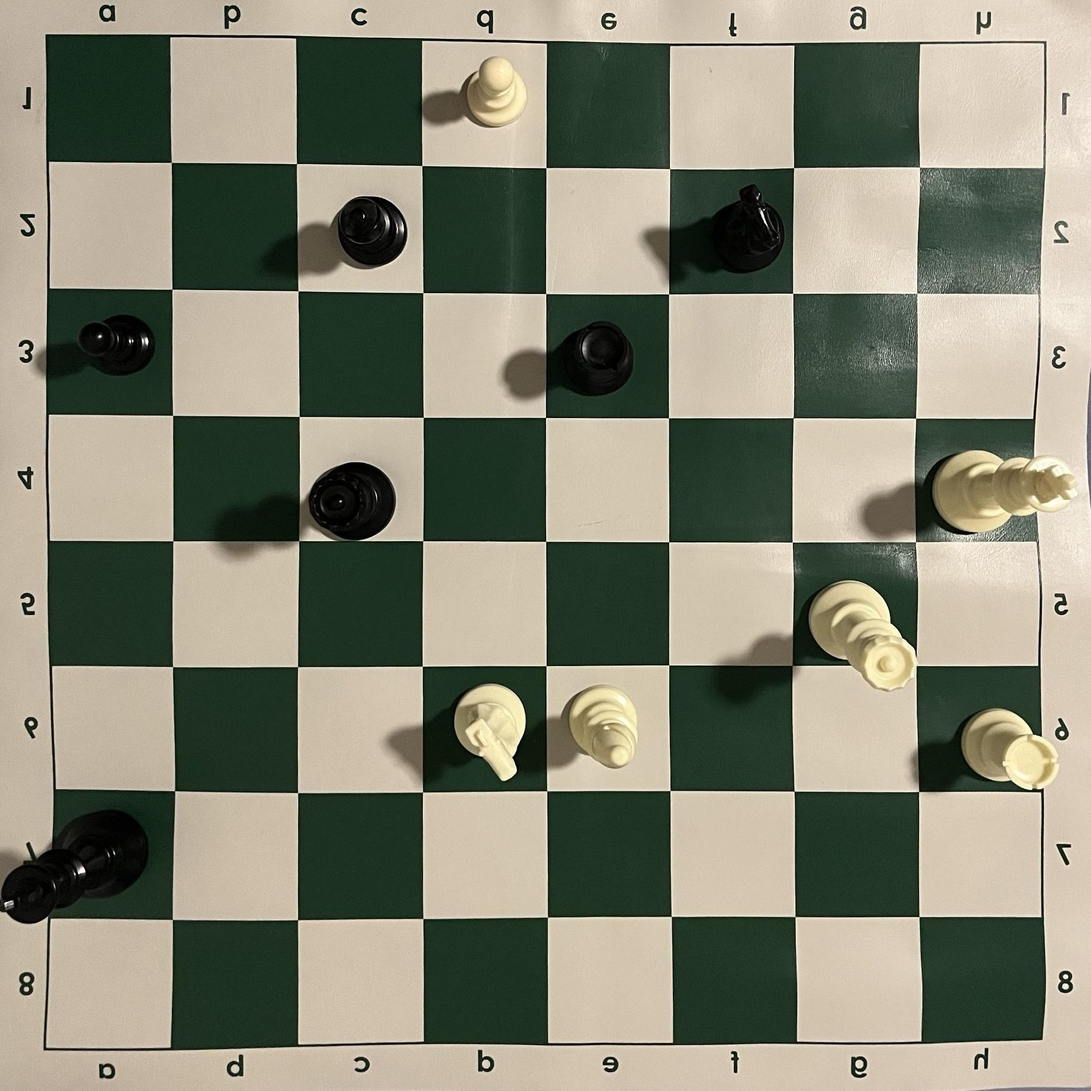black_bishop: (336, 195, 409, 268)
black_king: (0, 807, 151, 925)
black_knight: (709, 183, 786, 273)
black_pawn: (77, 314, 155, 377)
black_queen: (308, 460, 396, 541)
black_rook: (560, 319, 634, 396)
white_bishop: (567, 685, 641, 770)
white_king: (931, 449, 1079, 536)
white_knight: (453, 683, 527, 782)
white_pawn: (466, 55, 528, 128)
white_queen: (808, 579, 919, 692)
white_rook: (959, 707, 1061, 792)
